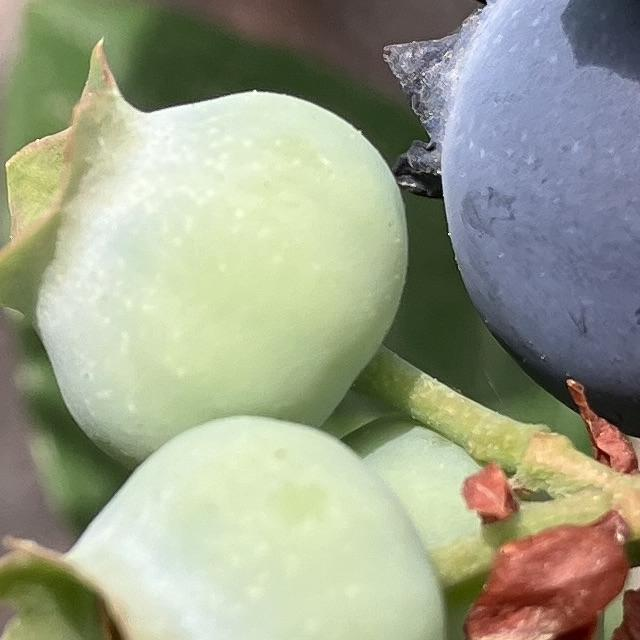Blueberries: (0, 24, 409, 457), (376, 0, 640, 442), (0, 409, 450, 640)
